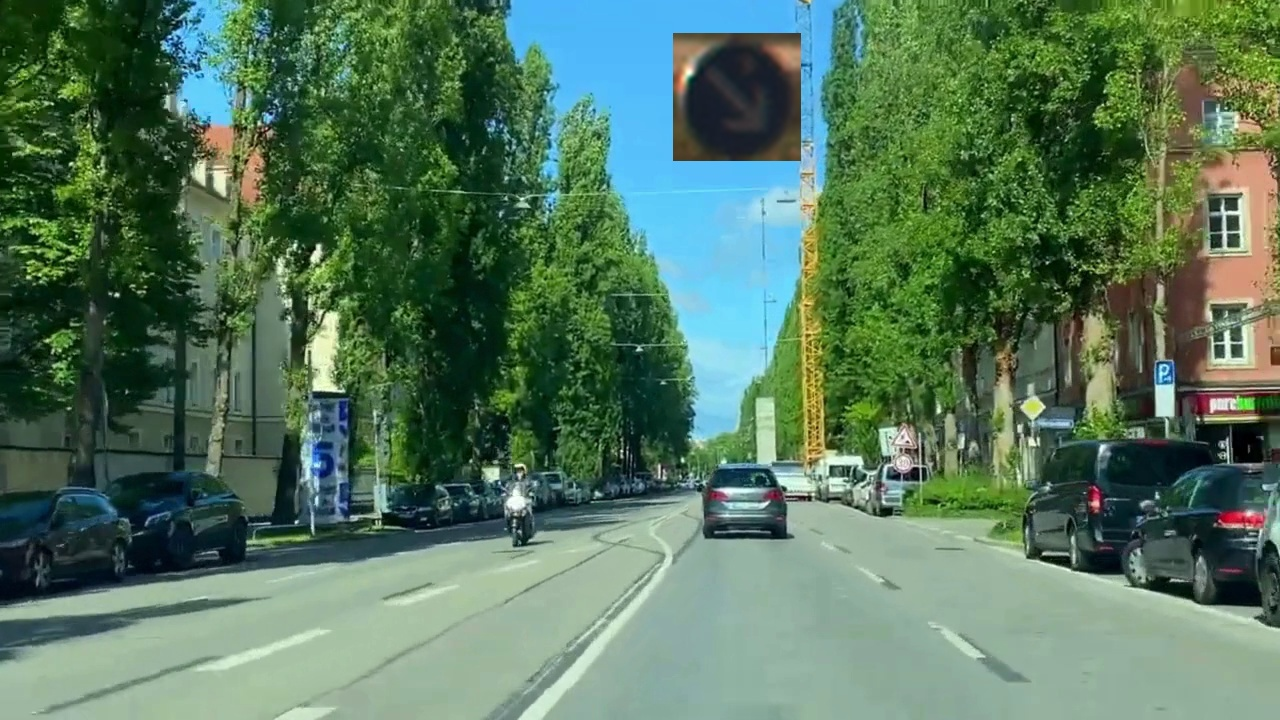Keep right: (673, 33, 801, 161)
